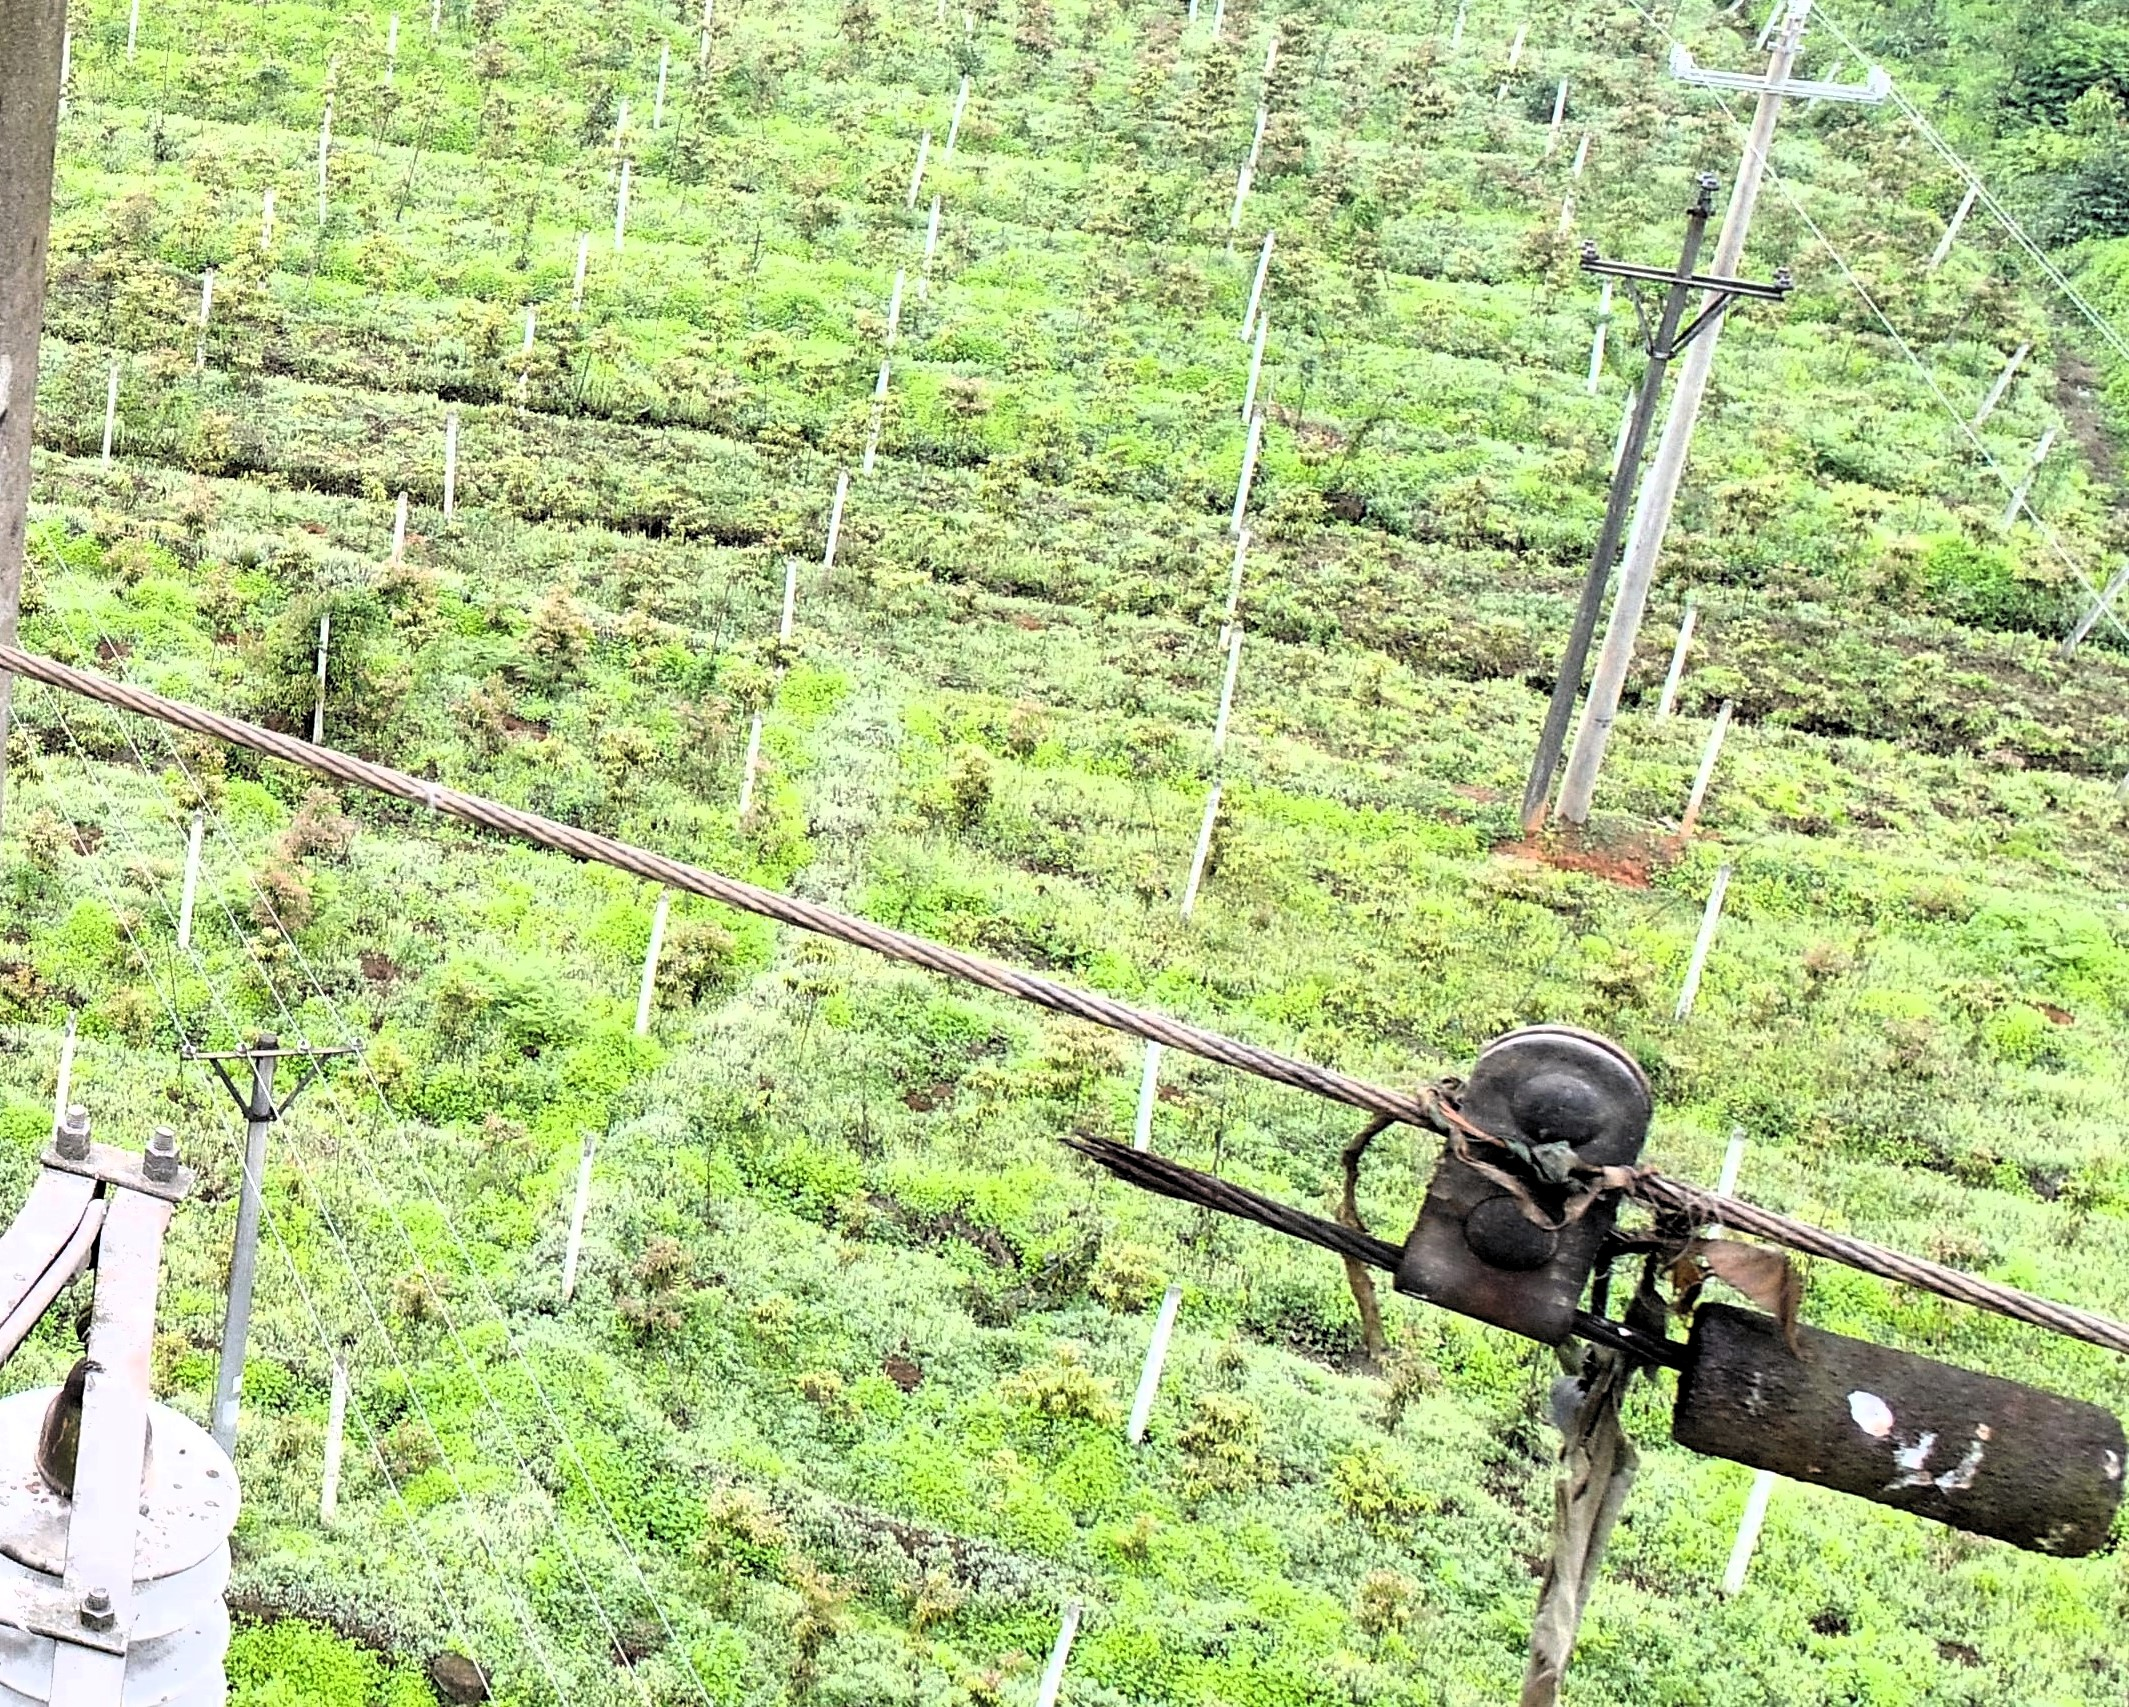Damage of shockproof hammer: (1042, 974, 2129, 1582)
